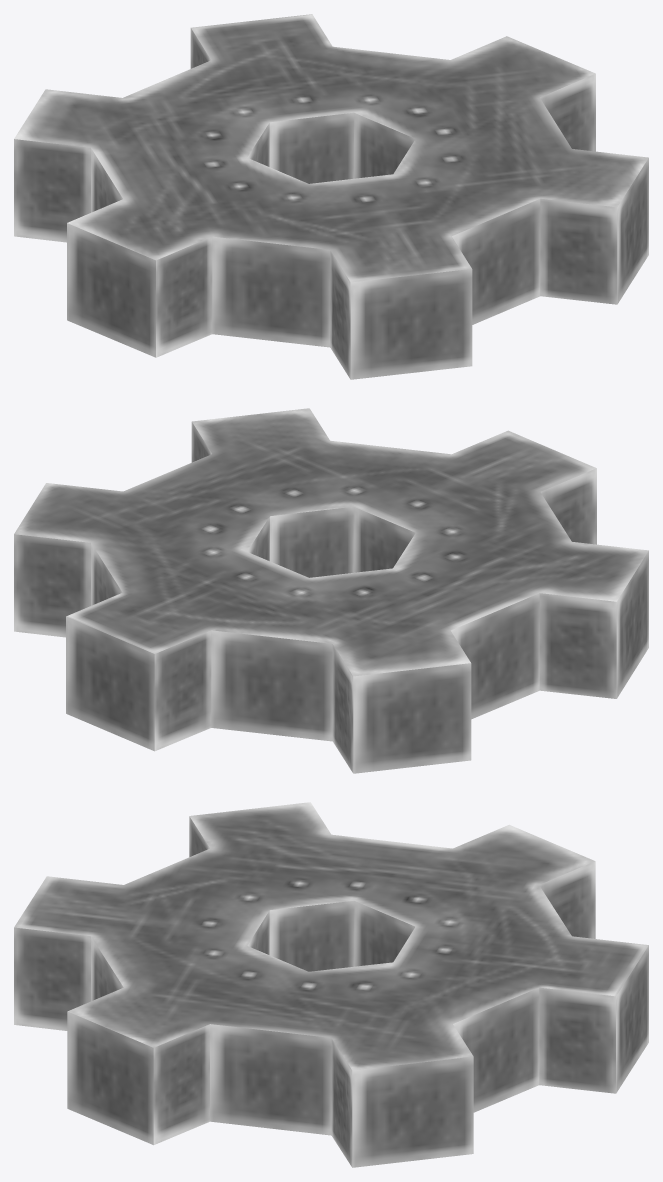
3 renders of one model, top to bottom at view 1: azimuth 30°, elevation 25°; view 2: azimuth 150°, elevation 25°; view 3: azimuth 270°, elevation 25°, orthographic.
Parts seen in each view (by area): view 1: gear1; view 2: gear1; view 3: gear1.
Part boxes in pixels (x1,y1,x2,y2): gear1: (14, 14, 648, 379); gear1: (14, 408, 648, 773); gear1: (14, 802, 648, 1167).
Size of the model in its own units: 154 by 26.1 by 154.
1 material, 1 textured.
